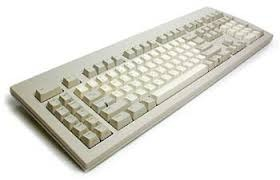keyboard: (9, 8, 272, 175)
